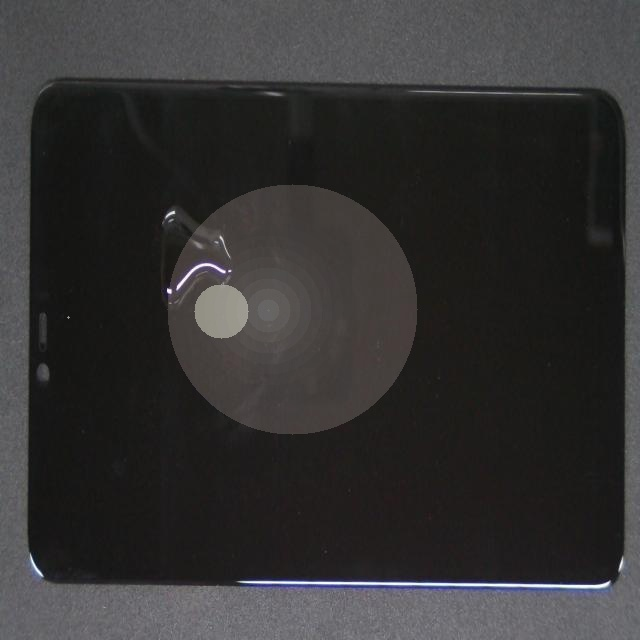oil: (127, 124, 324, 318)
